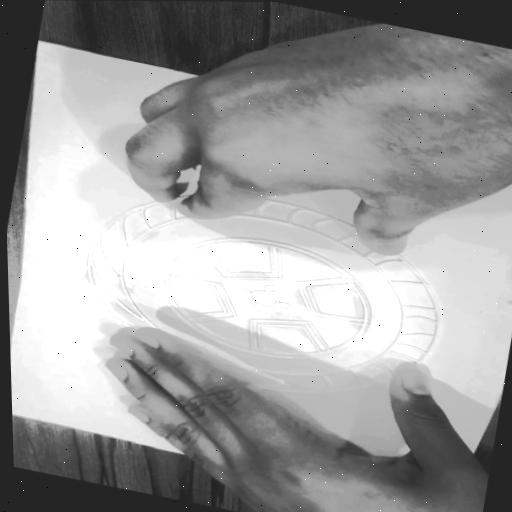tire: (52, 148, 484, 438)
top_right: (12, 405, 19, 419)
